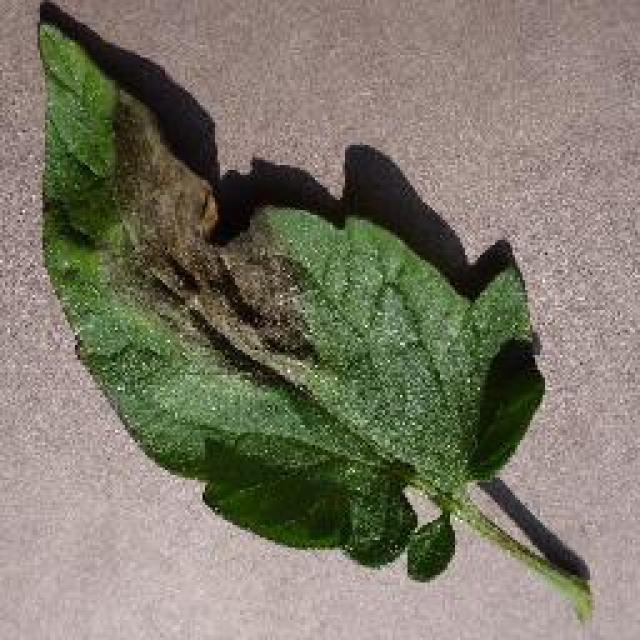Tomato late blight leaf: (35, 9, 545, 568)
